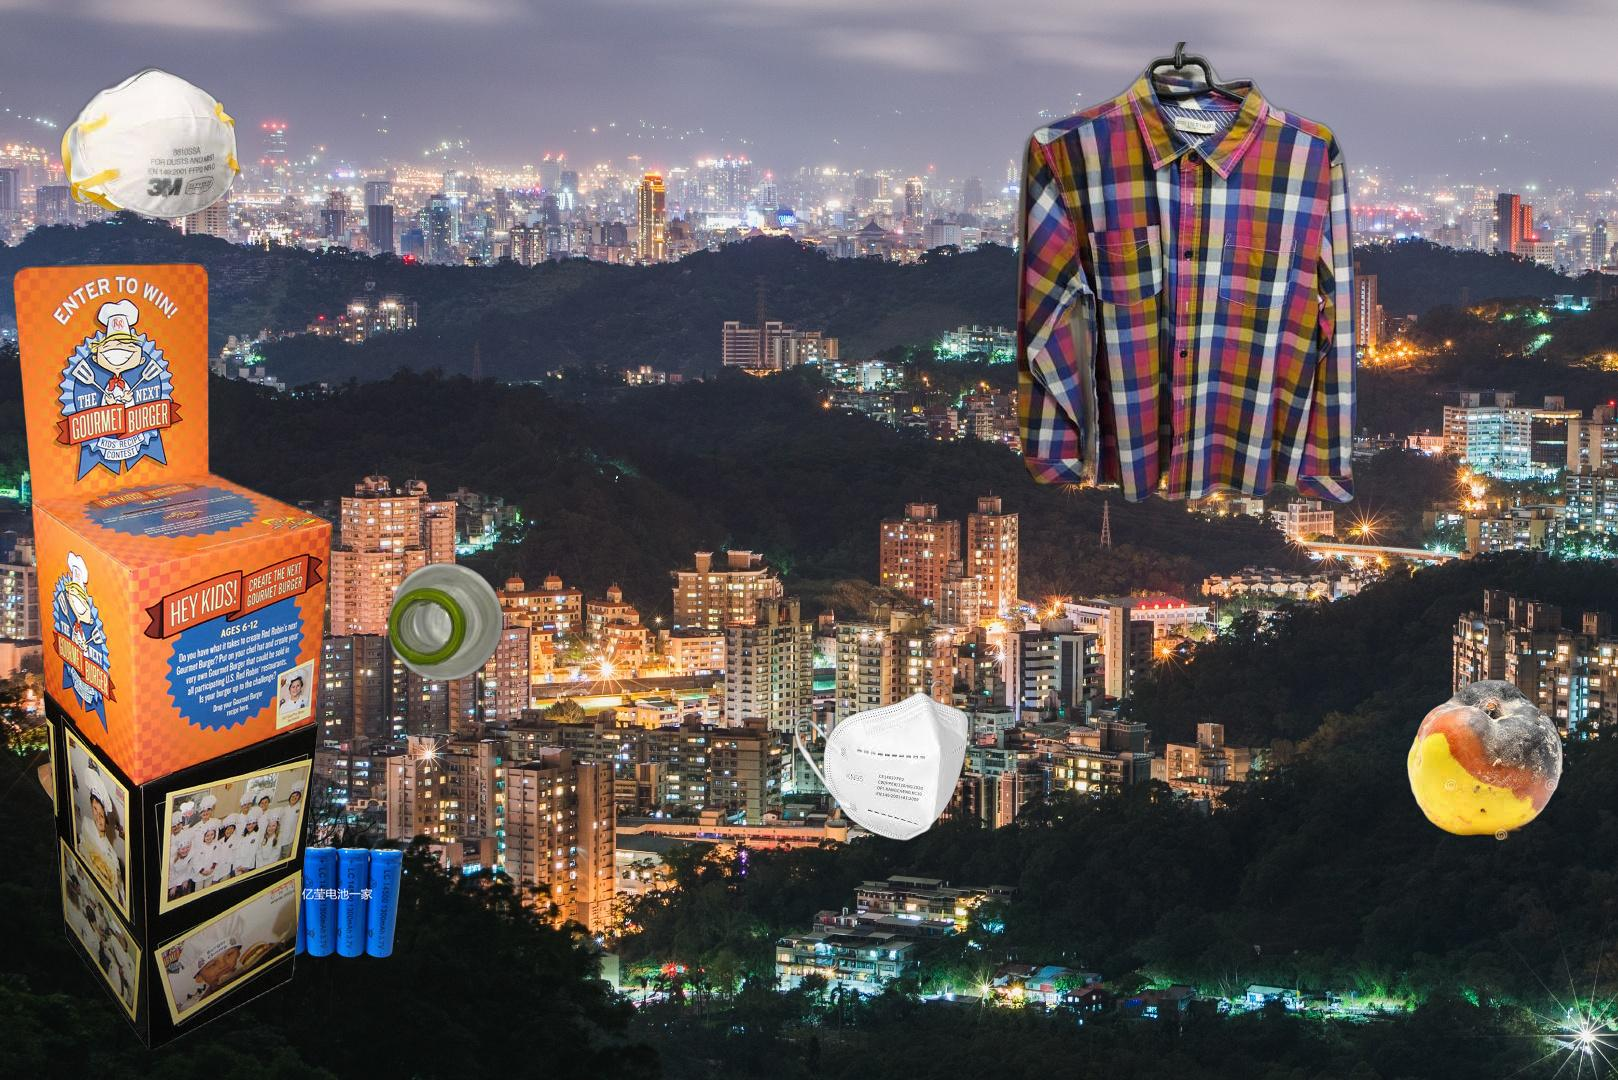battery: (265, 843, 406, 961)
biological: (1404, 677, 1567, 843)
clothes: (1013, 42, 1361, 507)
glass: (384, 559, 508, 683)
paper-bag: (34, 736, 125, 861)
trash: (792, 677, 971, 843), (58, 64, 243, 221)
trashbox-cardboard: (10, 257, 336, 1057)
